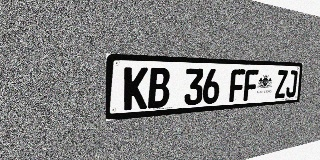3: (184, 68, 204, 106)
6: (202, 69, 221, 104)
B: (148, 68, 170, 109)
F: (229, 69, 245, 102), (243, 69, 259, 101)
J: (285, 70, 298, 98)
K: (124, 67, 148, 110)
Z: (275, 70, 288, 99)
